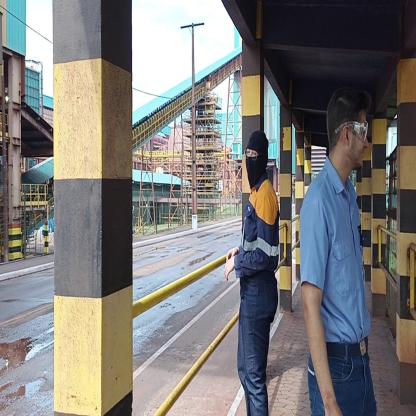Balaclava: (241, 126, 269, 190)
Operacional: (241, 190, 281, 272)
